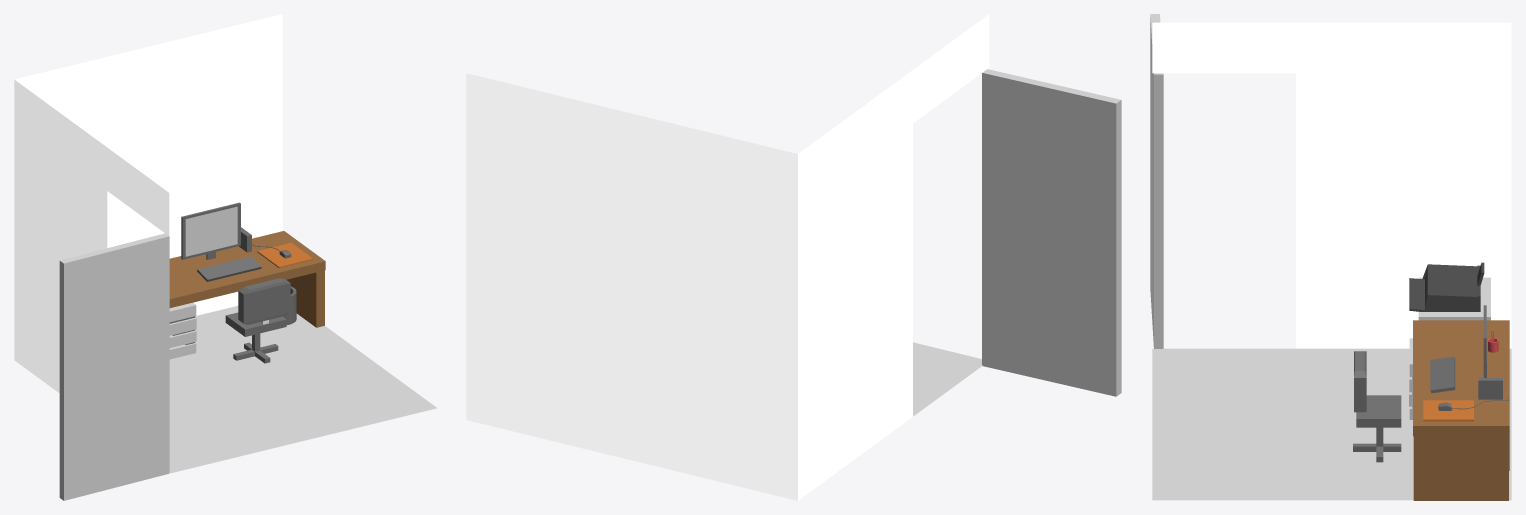
Rendered from casa.glb.
3 views of the same model, side by side, from view 1: azimuth 30°, elevation 25°; view 2: azimuth 150°, elevation 25°; view 3: azimuth 270°, elevation 25° (orthographic). The views are drawn at different scales.
Visible parts, largest first — view 1: Cube, Cube.001, Cube.012, Cube.007, Cube.004, Cube.005, Cube.010, Cube.008, Cube.013; view 2: Cube; view 3: Cube, Cube.001, Cube.004, Cube.011, Cube.012, Cube.008, Cube.006, Cube.002, Cube.010, Cube.009, Cube.013.
Boxes of the visible parts, x1,y1,x2,y2 form: Cube: [14, 14, 437, 500]; Cube.001: [169, 231, 325, 307]; Cube.012: [225, 278, 290, 336]; Cube.007: [181, 202, 240, 259]; Cube.004: [286, 270, 324, 327]; Cube.005: [169, 302, 196, 359]; Cube.010: [197, 256, 261, 281]; Cube.008: [257, 242, 313, 268]; Cube.013: [233, 333, 278, 363]; Cube: [466, 14, 1121, 500]; Cube: [1150, 14, 1511, 500]; Cube.001: [1413, 320, 1506, 436]; Cube.004: [1413, 436, 1508, 500]; Cube.011: [1409, 262, 1484, 311]; Cube.012: [1354, 351, 1401, 427]; Cube.008: [1423, 400, 1473, 421]; Cube.006: [1418, 277, 1490, 320]; Cube.002: [1498, 320, 1509, 470]; Cube.010: [1430, 356, 1455, 393]; Cube.009: [1438, 378, 1509, 410]; Cube.013: [1353, 427, 1401, 462].
Size of the model in its own units: 13.92 by 9.99 by 10.01.
